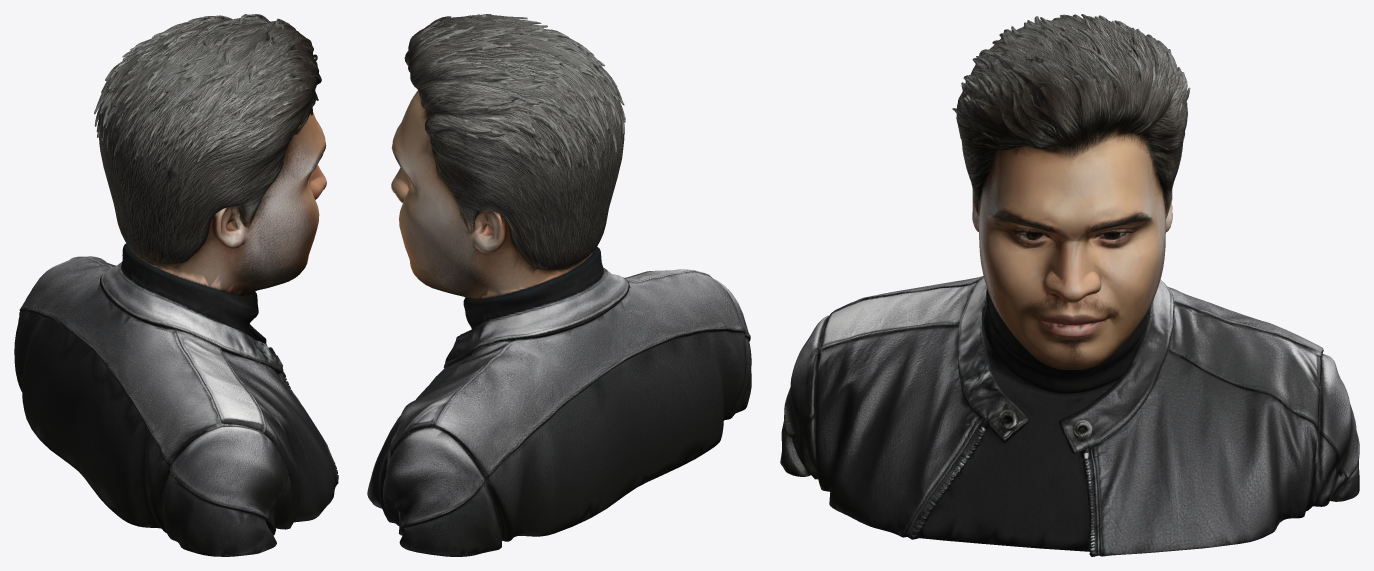
3 views of the same model, side by side, from view 1: azimuth 30°, elevation 25°; view 2: azimuth 150°, elevation 25°; view 3: azimuth 270°, elevation 25° (orthographic). The views are drawn at different scales.
Parts seen in each view (by area): view 1: tripo_node_c877bfc0-91e7-4708-9b68-1ac6f69364c7; view 2: tripo_node_c877bfc0-91e7-4708-9b68-1ac6f69364c7; view 3: tripo_node_c877bfc0-91e7-4708-9b68-1ac6f69364c7.
Part boxes in pixels (left/top/right/bottom): tripo_node_c877bfc0-91e7-4708-9b68-1ac6f69364c7: left=14, top=14, right=338, bottom=556; tripo_node_c877bfc0-91e7-4708-9b68-1ac6f69364c7: left=367, top=14, right=751, bottom=556; tripo_node_c877bfc0-91e7-4708-9b68-1ac6f69364c7: left=780, top=14, right=1359, bottom=556.
Bounding box in the file's own units: 0.5916 × 0.897 × 0.9787.
1 material, 1 textured.
